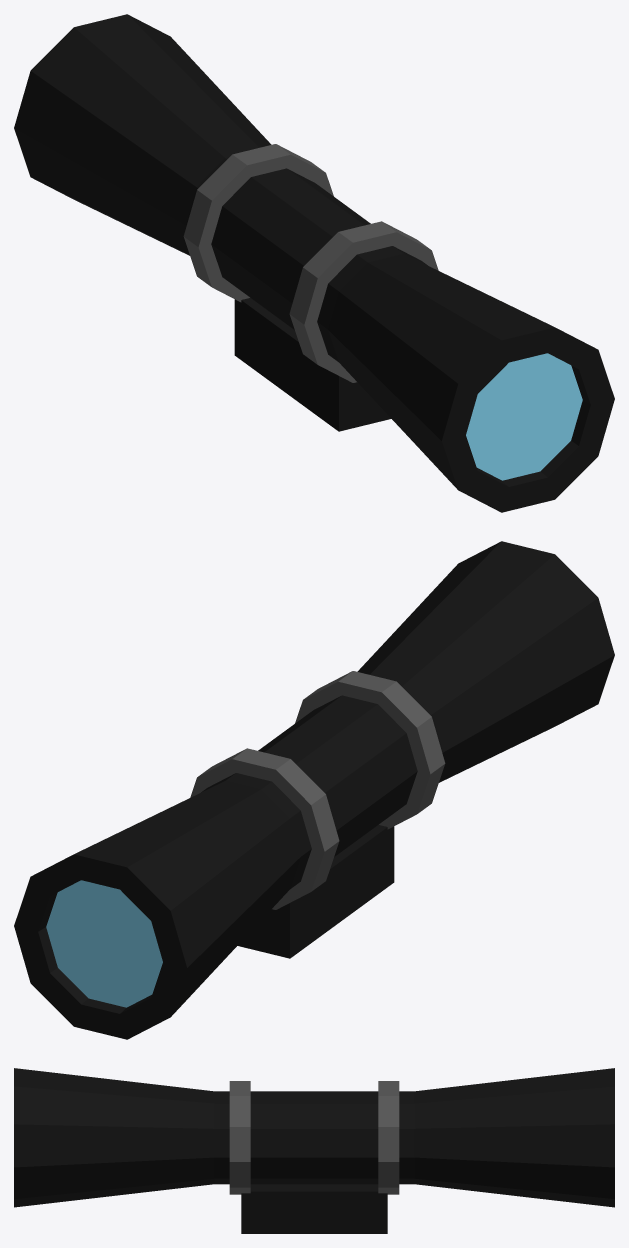
The model's file is Sight.fbx.
3 renders of one model, top to bottom at view 1: azimuth 30°, elevation 25°; view 2: azimuth 150°, elevation 25°; view 3: azimuth 270°, elevation 25°, orthographic. The views are drawn at different scales.
Parts seen in each view (by area): view 1: Bo, Gla, Block, Объект_Труба_1, Объект_Труба; view 2: Bo, ss, Block, Объект_Труба, Объект_Труба_1; view 3: Bo, Block, Объект_Труба, Объект_Труба_1.
Boxes of the visible parts, bbox=[...] form: Bo: bbox=[14, 14, 614, 512]; Gla: bbox=[466, 353, 582, 480]; Block: bbox=[234, 298, 391, 431]; Объект_Труба_1: bbox=[183, 144, 333, 302]; Объект_Труба: bbox=[289, 221, 438, 382]; Bo: bbox=[14, 541, 614, 1039]; ss: bbox=[46, 880, 162, 1007]; Block: bbox=[237, 825, 394, 958]; Объект_Труба: bbox=[295, 671, 445, 829]; Объект_Труба_1: bbox=[190, 748, 339, 909]; Bo: bbox=[14, 1068, 614, 1207]; Block: bbox=[241, 1184, 387, 1233]; Объект_Труба: bbox=[229, 1081, 250, 1194]; Объект_Труба_1: bbox=[378, 1081, 399, 1194].
Size of the model in its own units: 208 by 240 by 889.
